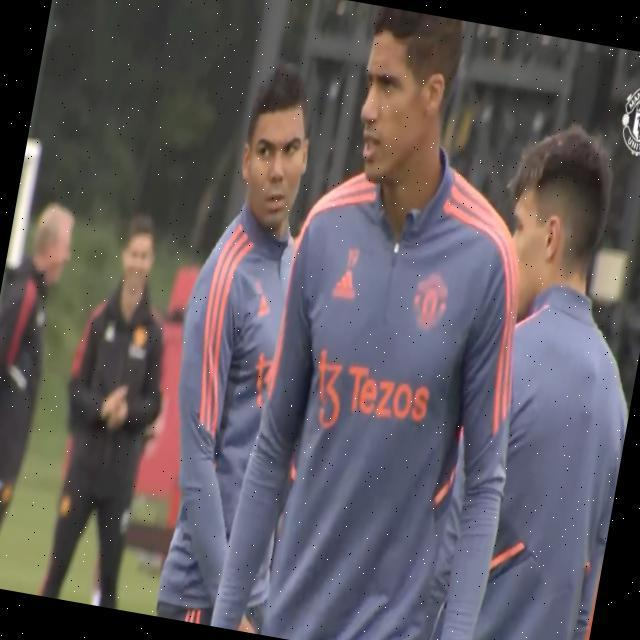Adidas: (331, 268, 359, 302)
